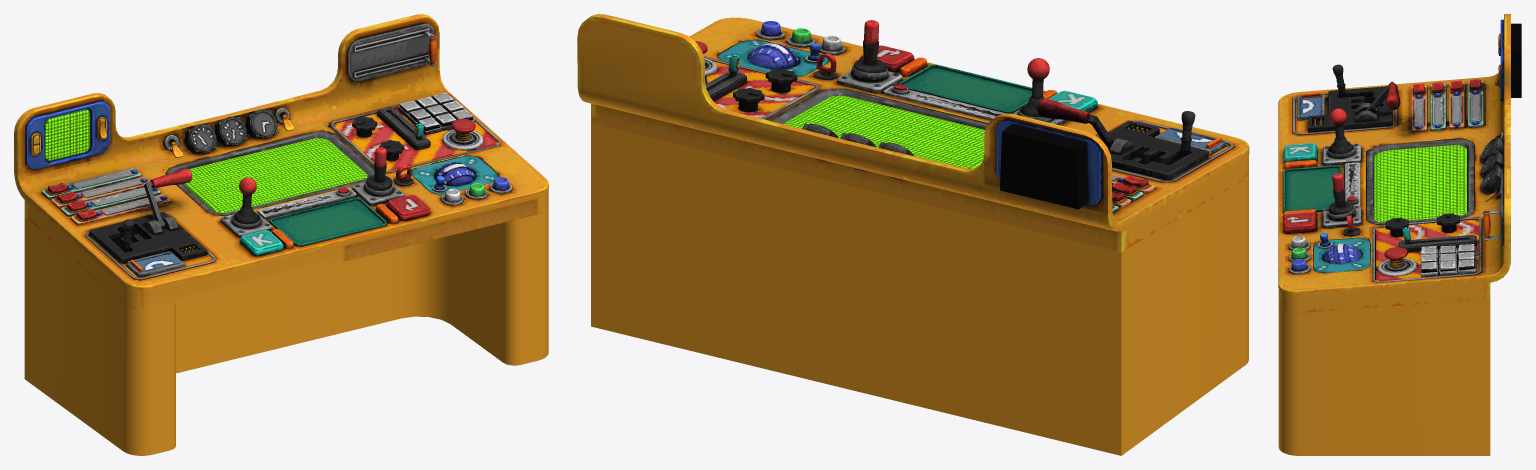
Rendered from ControlPanel.fbx.
3 renders of one model, left to right at view 1: azimuth 30°, elevation 25°; view 2: azimuth 150°, elevation 25°; view 3: azimuth 270°, elevation 25°, orthographic. The views are drawn at different scales.
Parts seen in each view (by area): view 1: ControlPanel, Plane.142, Plane.143, Plane.113, Plane.105, Plane.110, Plane.117, Plane.144, Plane.120, Plane.116, Plane.112, Plane.122 (+14 smaller); view 2: ControlPanel, Plane.142, Plane.143, Plane.105, Plane.110, Plane.117, Plane.120, Plane.111, Circle.045, Sphere.003, Circle.043, Plane.141 (+2 smaller); view 3: ControlPanel, Plane.142, Plane.143, Plane.110, Plane.105, Circle.048, Plane.118, Plane.116, Plane.121, Plane.112, Plane.122, Plane.146 (+20 smaller).
Boxes of the visible parts, x1,y1,x2,y2 form: ControlPanel: (24,207,548,455); Plane.142: (14,14,548,309); Plane.143: (183,138,367,212); Plane.113: (347,23,434,81); Plane.105: (269,198,386,246); Plane.110: (89,212,207,263); Plane.117: (25,101,110,169); Plane.144: (44,108,90,161); Plane.120: (257,187,356,218); Plane.116: (42,168,140,199); Plane.112: (51,177,149,207); Plane.122: (71,194,170,225); ControlPanel: (591,123,1248,455); Plane.142: (577,14,1249,251); Plane.143: (783,95,985,168); Plane.105: (898,64,1044,113); Plane.110: (1095,120,1208,180); Plane.117: (996,119,1102,205); Plane.120: (883,84,1004,120); Plane.111: (1037,98,1114,148); Circle.045: (853,20,885,81); Sphere.003: (747,43,799,69); Circle.043: (1021,58,1049,116); Plane.141: (837,71,902,93); ControlPanel: (1278,299,1490,455); Plane.142: (1278,14,1521,312); Plane.143: (1374,145,1466,222); Plane.110: (1307,86,1392,132); Plane.105: (1283,165,1341,212); Circle.048: (1377,247,1417,276); Plane.118: (1398,235,1476,252); Plane.116: (1468,79,1483,127); Plane.121: (1430,82,1445,130); Plane.112: (1449,80,1464,129); Plane.122: (1411,83,1426,132); Plane.146: (1372,217,1481,282).
Bounding box in the file's own units: 186 × 109 × 95.97.
